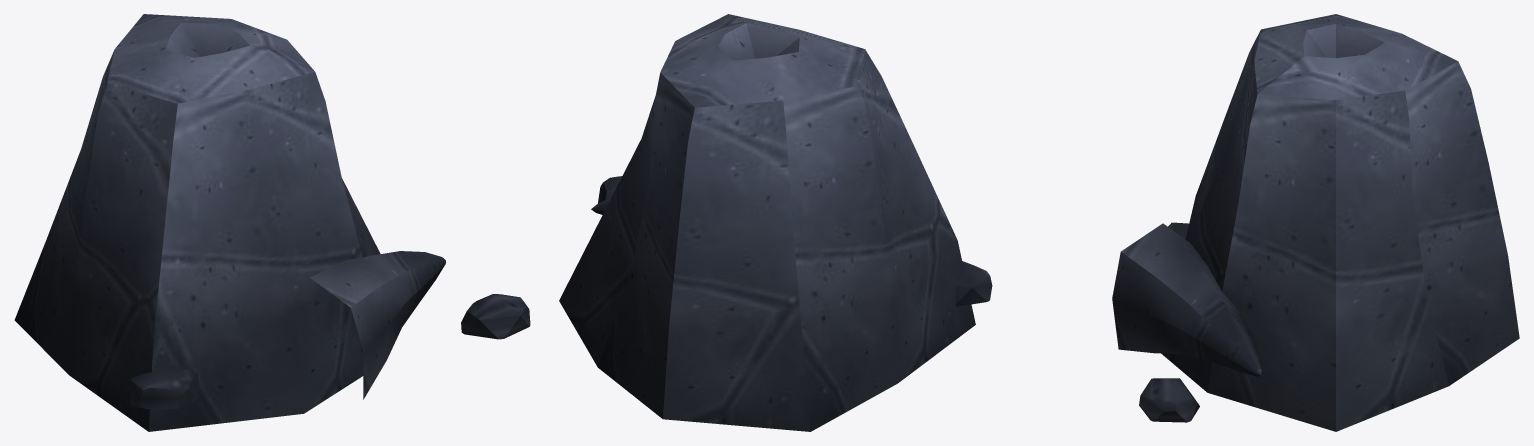
File: cave_stalagmite_c.glb
The picture shows the model from 3 angles, left to right: view 1: azimuth 30°, elevation 25°; view 2: azimuth 150°, elevation 25°; view 3: azimuth 270°, elevation 25°; orthographic projection. The views are drawn at different scales.
Visible parts, largest first — view 1: cave_stalagmite_c; view 2: cave_stalagmite_c; view 3: cave_stalagmite_c.
Part boxes in pixels (x1,y1,x2,y2): cave_stalagmite_c: [14, 14, 530, 431]; cave_stalagmite_c: [559, 14, 992, 431]; cave_stalagmite_c: [1112, 14, 1519, 431].
Size of the model in its own units: 0.9765 by 0.64 by 0.8504.
Materials: 2 (1 with a texture image).
